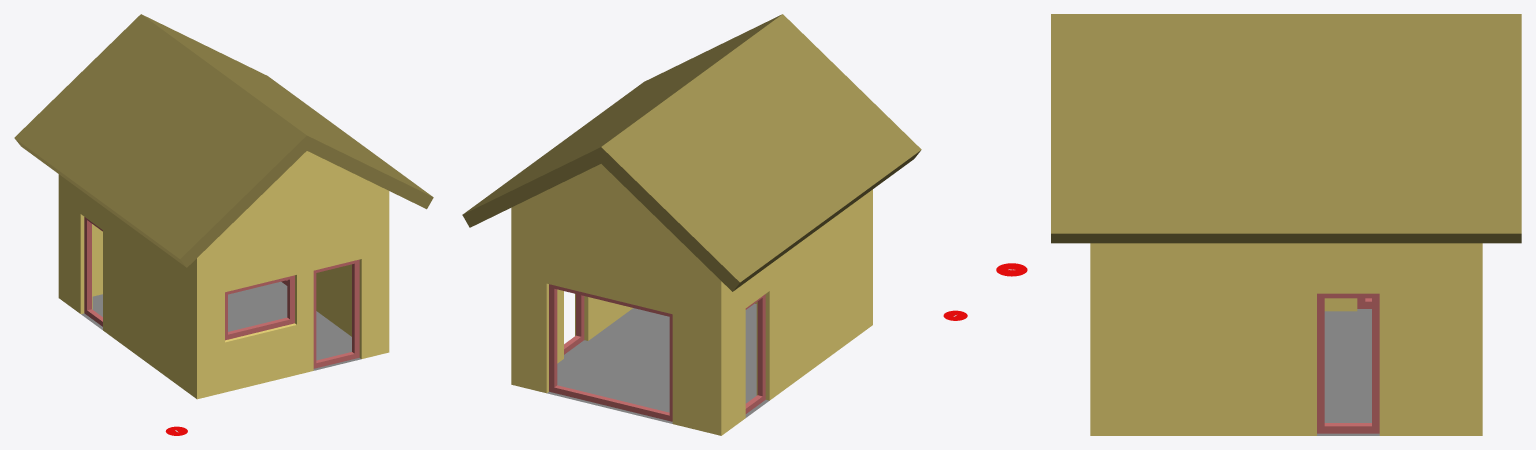
File: result.glb
The picture shows the model from 3 angles, left to right: view 1: azimuth 30°, elevation 25°; view 2: azimuth 150°, elevation 25°; view 3: azimuth 270°, elevation 25°; orthographic projection. The views are drawn at different scales.
Visible parts, largest first — view 1: e879cdd3-5b71-4113-b994-05ae9185be4b__undefined, 8e4a8cc8-1e16-4ef7-82fa-ee58eeb3305a__undefined (×2), be86e1b9-5d71-49c9-be1c-abbca4a52e2a__Plane_6, 230fcb99-67aa-4c48-97cf-1ee8ca7252b9__Box, c979398c-ece4-4db2-b3a8-aa6af1ca7135__Box_3, dc141f18-727a-4cd8-a22b-238eabeca50f__Box_12; view 2: 8e4a8cc8-1e16-4ef7-82fa-ee58eeb3305a__undefined (×2), e879cdd3-5b71-4113-b994-05ae9185be4b__undefined, be86e1b9-5d71-49c9-be1c-abbca4a52e2a__Plane_6, 10126e8b-d26f-46c9-9b67-1fc1d0ac7207__Box_9, dc141f18-727a-4cd8-a22b-238eabeca50f__Box_12, 13fd26b1-5b46-42cc-ac94-fa233c7ee5a4__Box_15; view 3: 8e4a8cc8-1e16-4ef7-82fa-ee58eeb3305a__undefined, e879cdd3-5b71-4113-b994-05ae9185be4b__undefined, be86e1b9-5d71-49c9-be1c-abbca4a52e2a__Plane_6, 13fd26b1-5b46-42cc-ac94-fa233c7ee5a4__Box_15.
Part boxes in pixels (x1,y1,x2,y2): e879cdd3-5b71-4113-b994-05ae9185be4b__undefined: (58, 151, 389, 399); 8e4a8cc8-1e16-4ef7-82fa-ee58eeb3305a__undefined (×2): (14, 14, 433, 267); be86e1b9-5d71-49c9-be1c-abbca4a52e2a__Plane_6: (81, 281, 361, 370); 230fcb99-67aa-4c48-97cf-1ee8ca7252b9__Box: (313, 259, 359, 368); c979398c-ece4-4db2-b3a8-aa6af1ca7135__Box_3: (225, 275, 294, 340); dc141f18-727a-4cd8-a22b-238eabeca50f__Box_12: (84, 217, 102, 326); 8e4a8cc8-1e16-4ef7-82fa-ee58eeb3305a__undefined (×2): (462, 14, 921, 291); e879cdd3-5b71-4113-b994-05ae9185be4b__undefined: (511, 164, 872, 435); be86e1b9-5d71-49c9-be1c-abbca4a52e2a__Plane_6: (547, 303, 769, 423); 10126e8b-d26f-46c9-9b67-1fc1d0ac7207__Box_9: (549, 284, 672, 421); dc141f18-727a-4cd8-a22b-238eabeca50f__Box_12: (745, 294, 765, 413); 13fd26b1-5b46-42cc-ac94-fa233c7ee5a4__Box_15: (564, 294, 584, 354); 8e4a8cc8-1e16-4ef7-82fa-ee58eeb3305a__undefined: (1051, 14, 1521, 243); e879cdd3-5b71-4113-b994-05ae9185be4b__undefined: (1090, 243, 1482, 435); be86e1b9-5d71-49c9-be1c-abbca4a52e2a__Plane_6: (1317, 309, 1379, 435); 13fd26b1-5b46-42cc-ac94-fa233c7ee5a4__Box_15: (1317, 293, 1379, 433).
Bounding box in the file's own units: 585 × 500 × 670.
